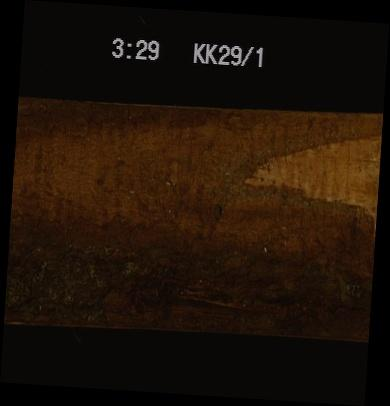wave: (10, 107, 375, 332)
